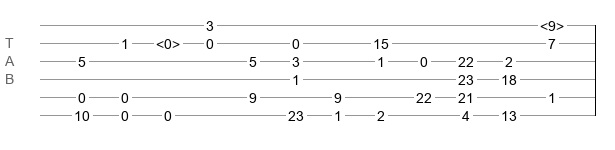0: (78, 90, 86, 100), (121, 90, 129, 100), (121, 108, 129, 118), (164, 108, 172, 118), (206, 36, 214, 46), (292, 36, 300, 46), (420, 54, 428, 64)
1: (121, 36, 129, 46), (292, 72, 300, 82), (334, 108, 342, 118), (377, 54, 385, 64), (548, 90, 556, 100)
10: (74, 108, 90, 118)
13: (501, 108, 517, 118)
15: (373, 36, 389, 46)
18: (501, 72, 517, 82)
2: (377, 108, 385, 118), (505, 54, 513, 64)
21: (458, 90, 474, 100)
22: (416, 90, 432, 100), (458, 54, 474, 64)
23: (288, 108, 304, 118), (458, 72, 474, 82)
3: (206, 18, 214, 28), (292, 54, 300, 64)
4: (462, 108, 470, 118)
5: (78, 54, 86, 64), (249, 54, 257, 64)
7: (548, 36, 556, 46)
9: (249, 90, 257, 100), (334, 90, 342, 100)
harmonic: (156, 36, 180, 46), (540, 18, 564, 28)
